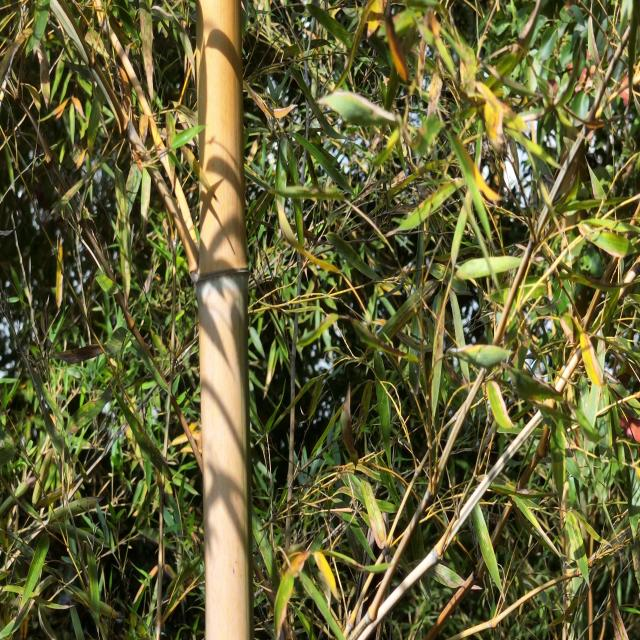Bamboo-shoots: (195, 0, 255, 640)
